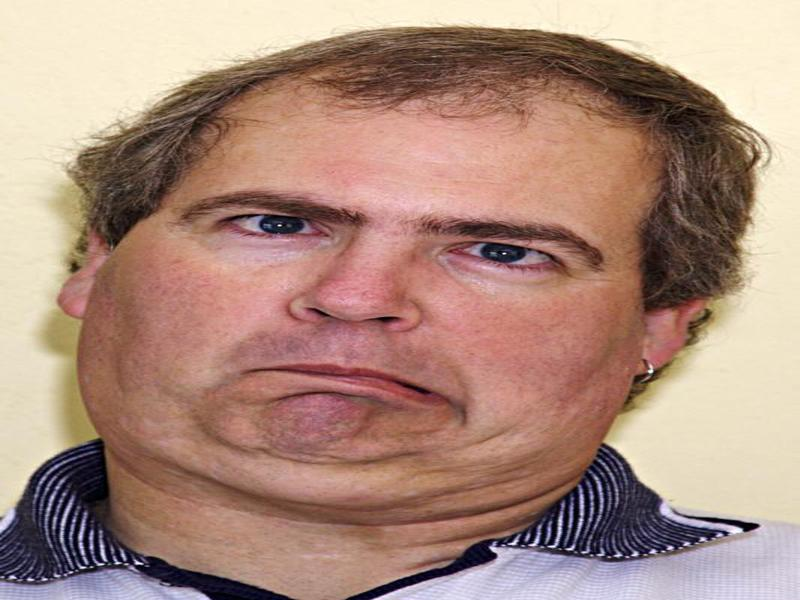person: (1, 19, 799, 600)
